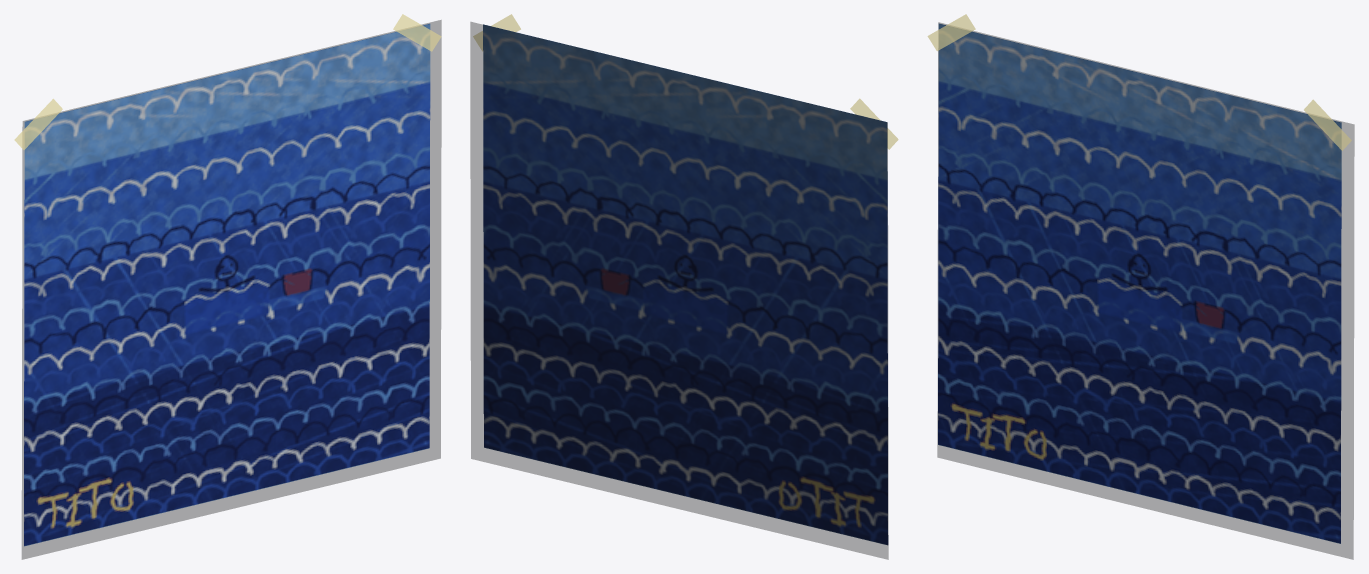
The model's file is desenho_5.glb.
3 renders of one model, left to right at view 1: azimuth 30°, elevation 25°; view 2: azimuth 150°, elevation 25°; view 3: azimuth 330°, elevation 25°, orthographic.
Parts seen in each view (by area): view 1: _MeshInstance3D_3077_2, _MeshInstance3D_3076_3, _MeshInstance3D_3079_0, _MeshInstance3D_3078_1; view 2: _MeshInstance3D_3076_3, _MeshInstance3D_3077_2; view 3: _MeshInstance3D_3077_2, _MeshInstance3D_3076_3, _MeshInstance3D_3078_1, _MeshInstance3D_3079_0.
Boxes of the visible parts, bbox=[...] form: _MeshInstance3D_3077_2: bbox=[24, 23, 430, 546]; _MeshInstance3D_3076_3: bbox=[22, 20, 441, 559]; _MeshInstance3D_3079_0: bbox=[393, 14, 441, 51]; _MeshInstance3D_3078_1: bbox=[14, 98, 62, 149]; _MeshInstance3D_3076_3: bbox=[470, 22, 888, 559]; _MeshInstance3D_3077_2: bbox=[483, 24, 888, 545]; _MeshInstance3D_3077_2: bbox=[938, 23, 1341, 543]; _MeshInstance3D_3076_3: bbox=[937, 22, 1354, 559]; _MeshInstance3D_3078_1: bbox=[927, 14, 975, 51]; _MeshInstance3D_3079_0: bbox=[1304, 99, 1351, 150].
Bounding box in the file's own units: 0.9512 × 0.9663 × 0.005.
Materials: 3 (1 with a texture image).
